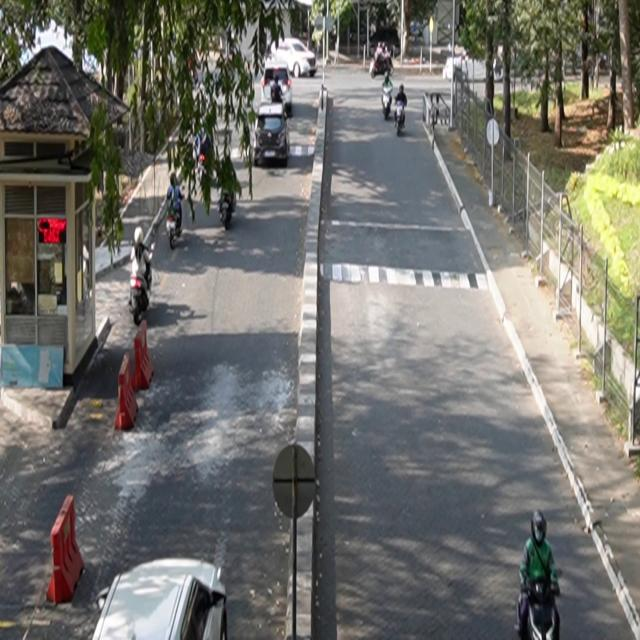car: (92, 558, 229, 640), (255, 102, 291, 168)
